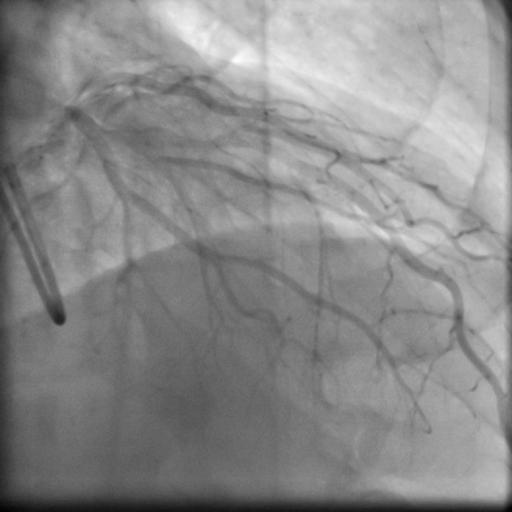Stenosis: (127, 135, 188, 157)
